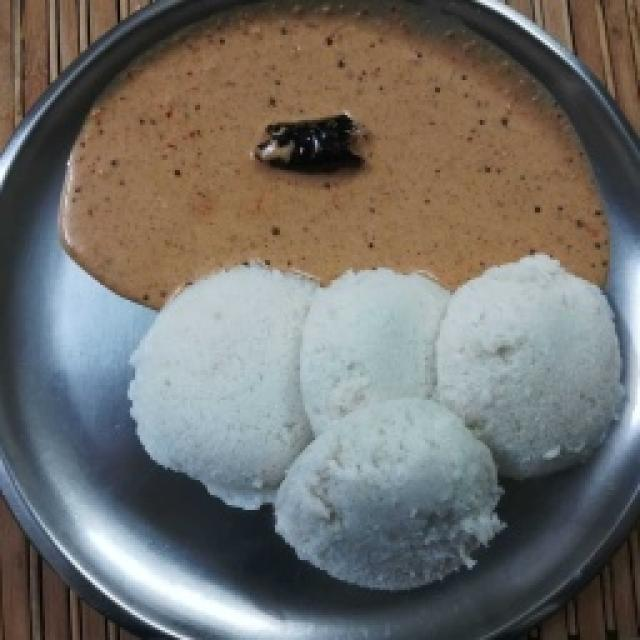idli: (122, 264, 625, 568)
